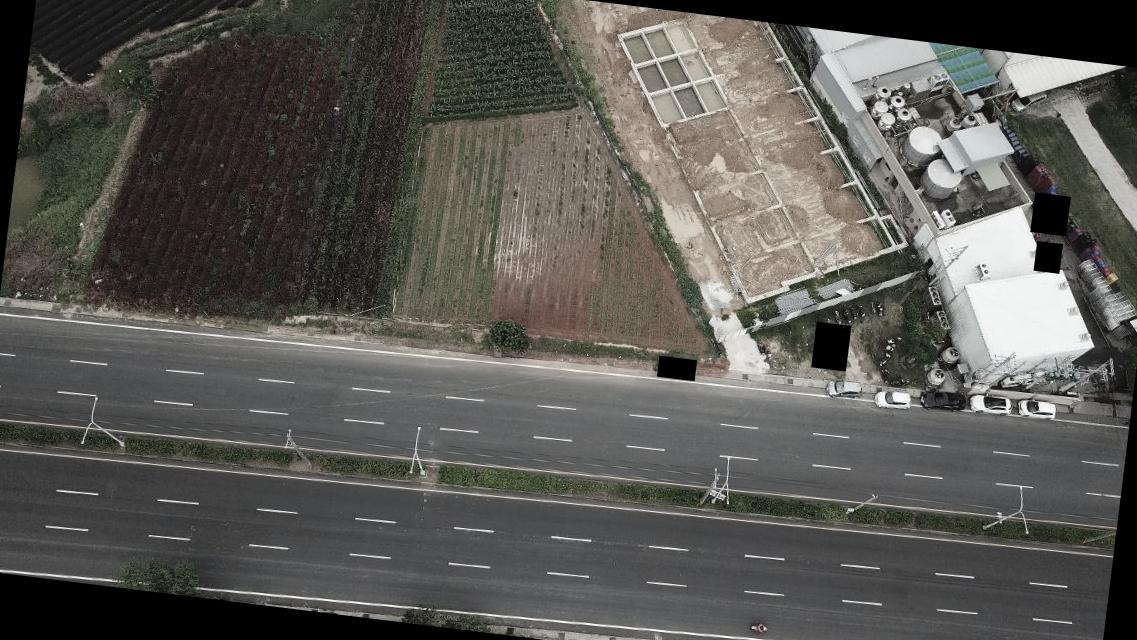vehicle: (917, 386, 968, 414), (1010, 84, 1050, 116), (967, 392, 1014, 416), (1016, 396, 1058, 422), (872, 387, 912, 411), (824, 378, 862, 400)
